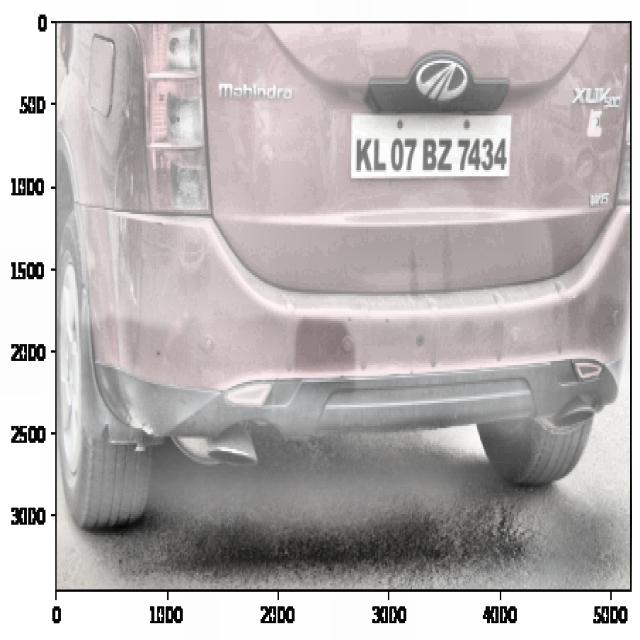license_plate: (352, 126, 513, 178)
